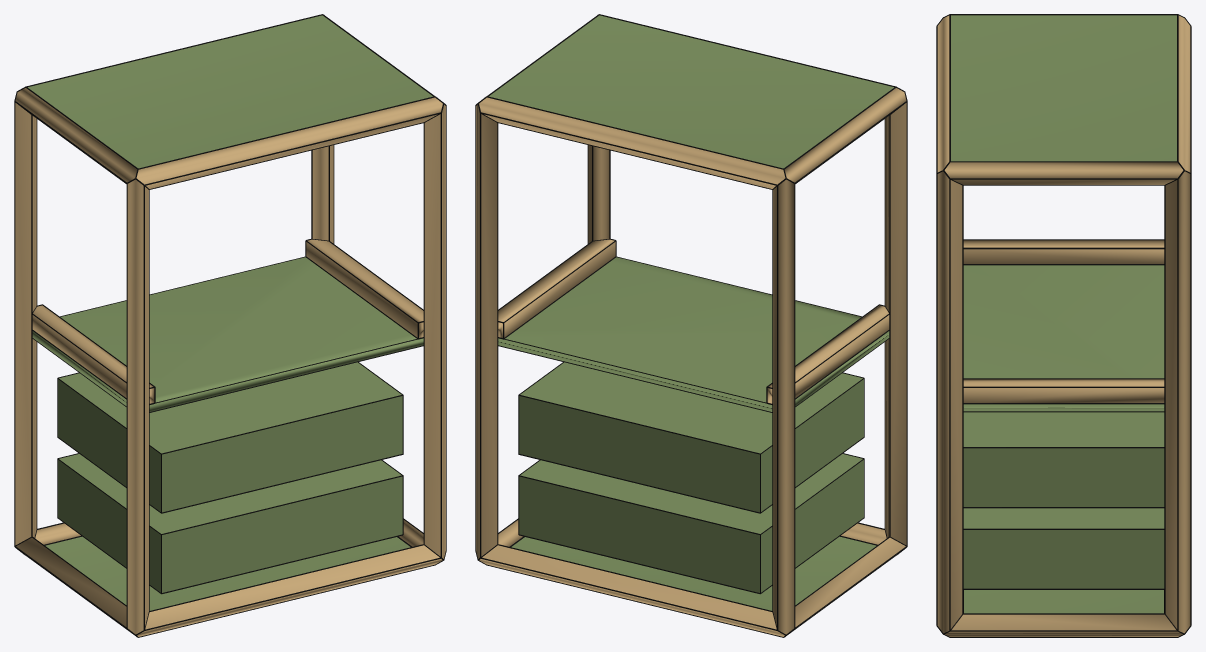
Rendered from 005-commode.glb.
The picture shows the model from 3 angles, left to right: view 1: azimuth 30°, elevation 25°; view 2: azimuth 150°, elevation 25°; view 3: azimuth 270°, elevation 25°; orthographic projection.
Visible parts, largest first — view 1: panneau-dessus_exterieur, mod-drawer-1, tablette-plate-mod-0, mod-drawer-0, arete-Z0, arete-Z2, arete-Z1, arete-X2, arete-X0, panneau-dessous, tablette-traverse-right-mod-0, tablette-traverse-left-mod-0 (+15 smaller); view 2: panneau-dessus_exterieur, mod-drawer-1, tablette-plate-mod-0, mod-drawer-0, arete-Z2, arete-Z0, arete-Z3, arete-X3, arete-X1, panneau-dessous, tablette-traverse-right-mod-0, tablette-traverse-left-mod-0 (+15 smaller); view 3: panneau-dessus_exterieur, tablette-plate-mod-0, mod-drawer-1, mod-drawer-0, arete-Z1, arete-Z3, arete-Y3, arete-Y1, panneau-dessous, tablette-traverse-left-mod-0, tablette-traverse-right-mod-0, arete-wire-Z1 (+13 smaller).
Part boxes in pixels (x1=…): panneau-dessus_exterieur: x1=28, y1=15, x2=432, y2=168; mod-drawer-1: x1=58, y1=362, x2=402, y2=512; tablette-plate-mod-0: x1=32, y1=257, x2=423, y2=411; mod-drawer-0: x1=58, y1=454, x2=402, y2=592; arete-Z0: x1=127, y1=179, x2=148, y2=634; arete-Z2: x1=15, y1=103, x2=36, y2=545; arete-Z1: x1=424, y1=104, x2=445, y2=558; arete-X2: x1=136, y1=97, x2=442, y2=188; arete-X0: x1=137, y1=545, x2=442, y2=636; panneau-dessous: x1=45, y1=536, x2=410, y2=610; tablette-traverse-right-mod-0: x1=306, y1=239, x2=423, y2=337; tablette-traverse-left-mod-0: x1=32, y1=305, x2=154, y2=403; panneau-dessus_exterieur: x1=489, y1=15, x2=893, y2=168; mod-drawer-1: x1=519, y1=362, x2=863, y2=512; tablette-plate-mod-0: x1=498, y1=257, x2=889, y2=411; mod-drawer-0: x1=519, y1=454, x2=863, y2=592; arete-Z2: x1=773, y1=179, x2=794, y2=634; arete-Z0: x1=885, y1=103, x2=906, y2=545; arete-Z3: x1=476, y1=104, x2=497, y2=558; arete-X3: x1=479, y1=97, x2=785, y2=188; arete-X1: x1=479, y1=545, x2=784, y2=636; panneau-dessous: x1=511, y1=536, x2=876, y2=610; tablette-traverse-right-mod-0: x1=498, y1=239, x2=615, y2=337; tablette-traverse-left-mod-0: x1=767, y1=305, x2=889, y2=403; panneau-dessus_exterieur: x1=951, y1=15, x2=1176, y2=161; tablette-plate-mod-0: x1=963, y1=265, x2=1164, y2=411; mod-drawer-1: x1=963, y1=412, x2=1164, y2=506; mod-drawer-0: x1=963, y1=508, x2=1164, y2=588; arete-Z1: x1=937, y1=171, x2=962, y2=633; arete-Z3: x1=1165, y1=171, x2=1190, y2=633; arete-Y3: x1=944, y1=162, x2=1183, y2=184; arete-Y1: x1=945, y1=614, x2=1182, y2=636; panneau-dessous: x1=964, y1=590, x2=1163, y2=613; tablette-traverse-left-mod-0: x1=963, y1=240, x2=1164, y2=263; tablette-traverse-right-mod-0: x1=963, y1=379, x2=1164, y2=402; arete-wire-Z1: x1=936, y1=170, x2=963, y2=630.
Bounding box in the file's own units: 0.6238 × 0.8738 × 0.4238.
